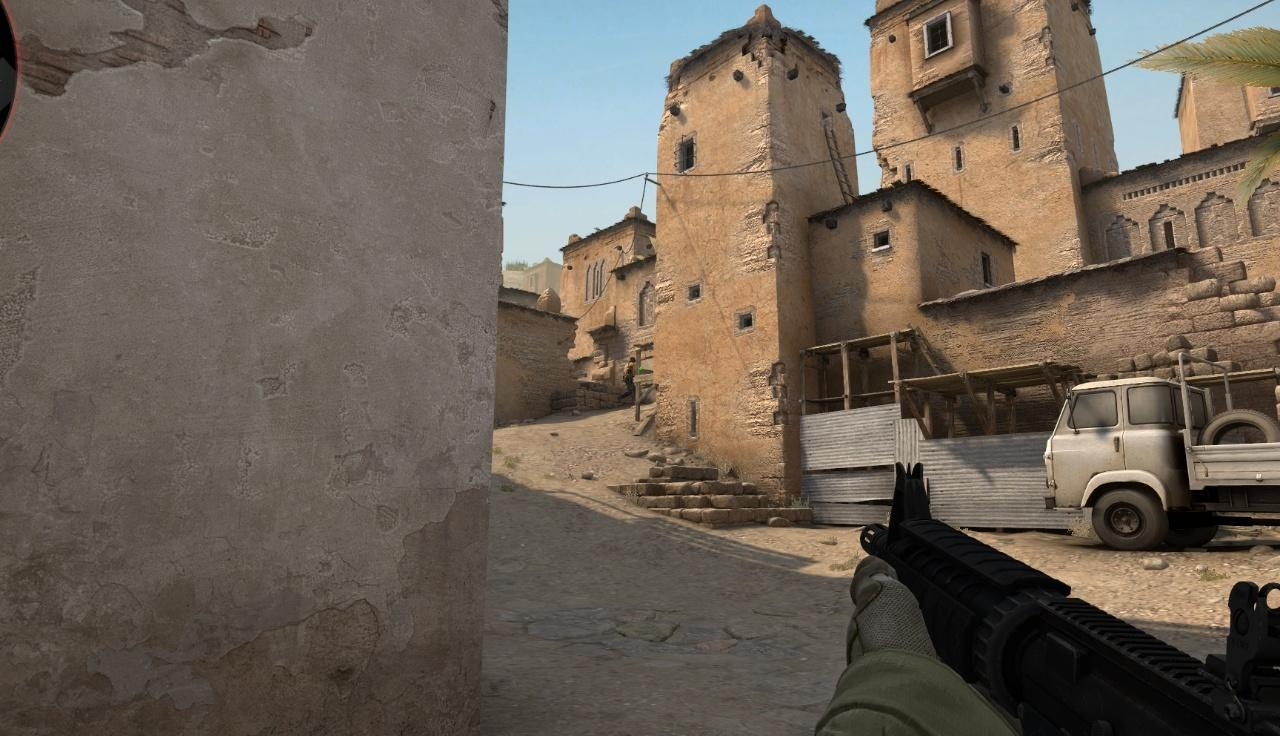rifle: (862, 459, 1280, 736)
tt: (622, 356, 637, 402)
tthead: (629, 357, 636, 363)
